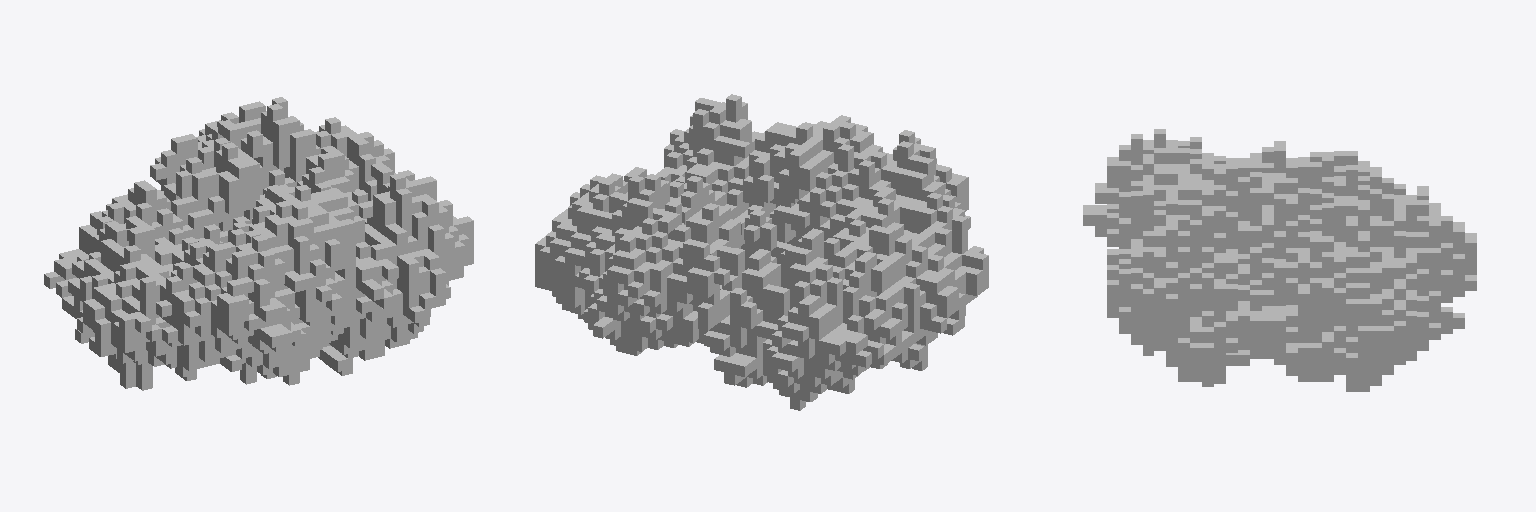
File: leaf2.obj
3 renders of one model, left to right at view 1: azimuth 30°, elevation 25°; view 2: azimuth 150°, elevation 25°; view 3: azimuth 270°, elevation 25°, orthographic.
Visible parts, largest first — view 1: object 1; view 2: object 1; view 3: object 1.
Part boxes in pixels (left/top/right/bottom): object 1: left=44, top=97, right=473, bottom=390; object 1: left=535, top=94, right=988, bottom=410; object 1: left=1083, top=129, right=1476, bottom=391.
Bounding box in the file's own units: 3.4 × 1.8 × 3.3.